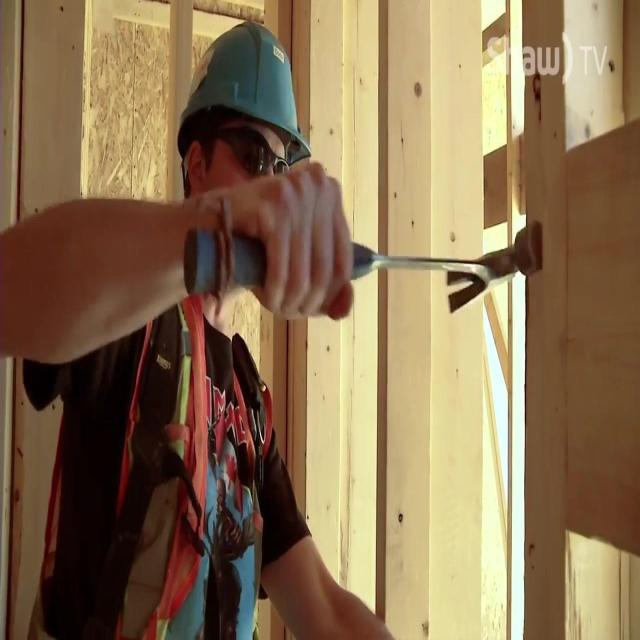Vest: (25, 293, 272, 639)
